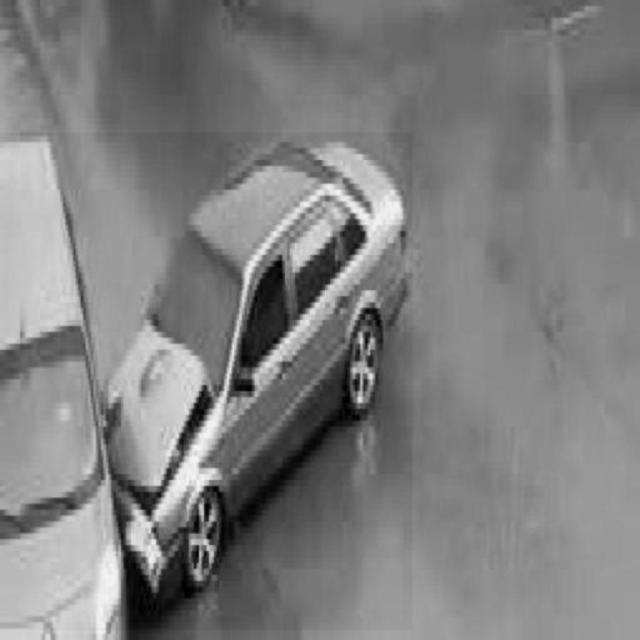accident: (0, 132, 412, 629)
